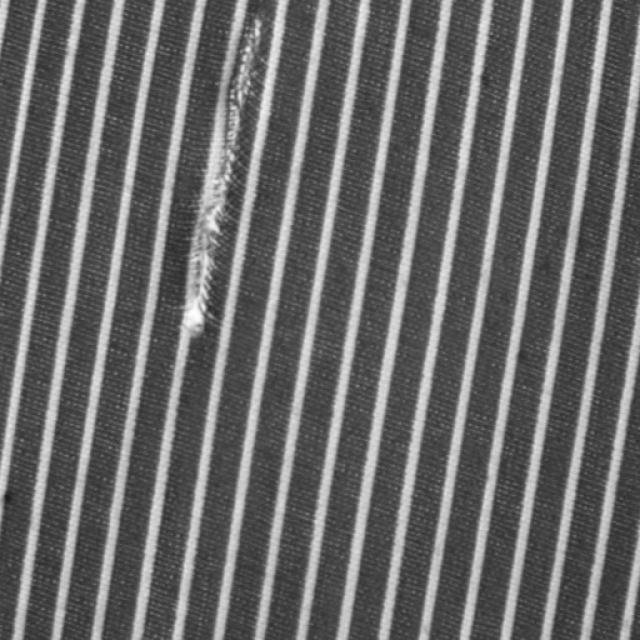Hole-Defect: (181, 18, 266, 338)
